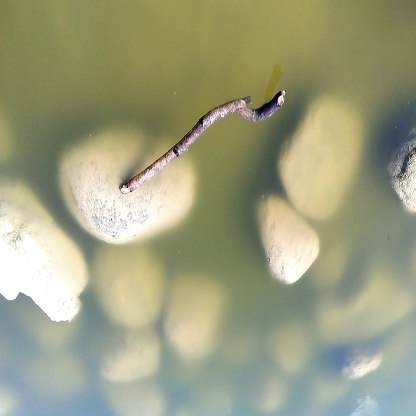branch: (118, 90, 285, 195)
